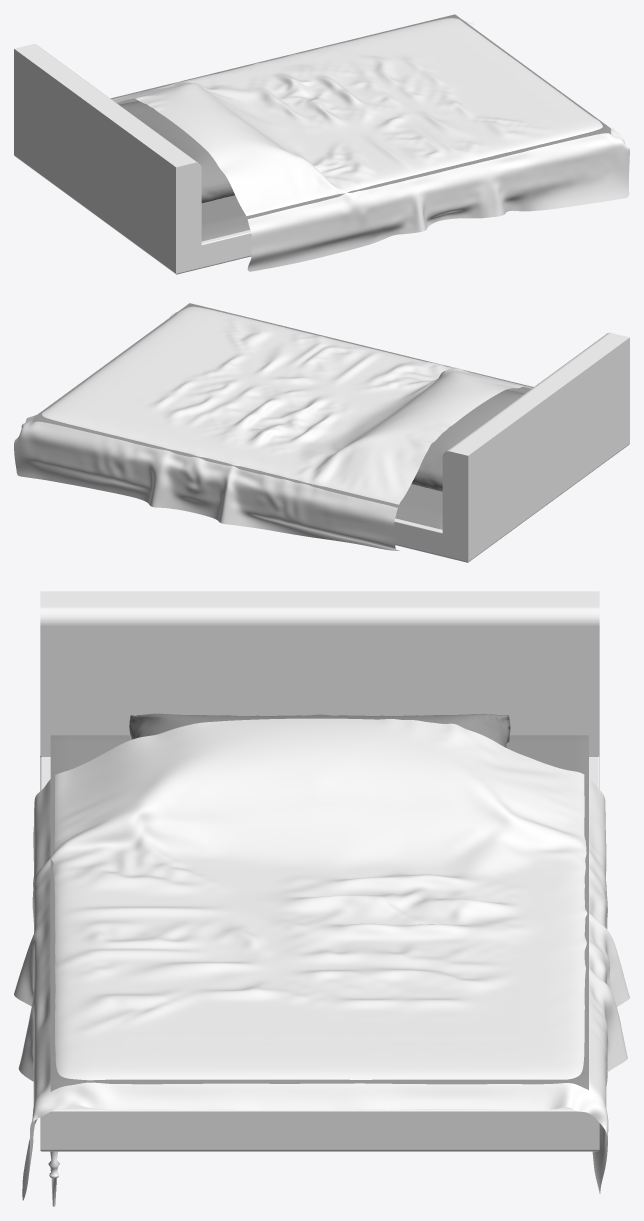
File: bed.glb
The picture shows the model from 3 angles, top to bottom: view 1: azimuth 30°, elevation 25°; view 2: azimuth 150°, elevation 25°; view 3: azimuth 270°, elevation 25°; orthographic projection. The views are drawn at different scales.
Visible parts, largest first — view 1: blanket, bed frame, matress, pillow; view 2: blanket, bed frame, matress, pillow; view 3: blanket, bed frame, matress, pillow.
Part boxes in pixels (box(x1,y1,x2,y2)): blanket: box(112, 18, 629, 271); bed frame: box(14, 44, 251, 274); matress: box(110, 14, 610, 241); pillow: box(119, 100, 234, 202); blanket: box(14, 306, 532, 550); bed frame: box(394, 332, 629, 562); matress: box(34, 303, 533, 529); pillow: box(411, 389, 524, 491); blanket: box(14, 718, 629, 1200); bed frame: box(40, 591, 599, 1151); matress: box(50, 735, 588, 1091); pillow: box(129, 713, 510, 747).
Size of the model in its own units: 3.22 by 0.9666 by 2.2.
4 materials, 1 textured.
